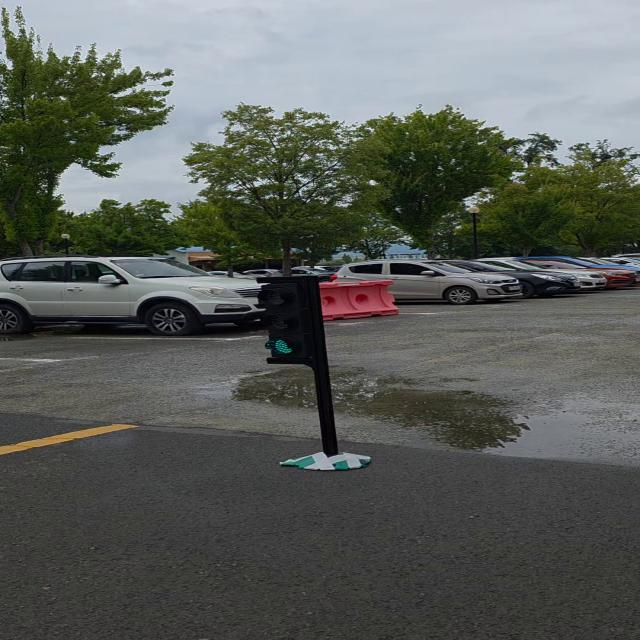green: (259, 277, 326, 363)
